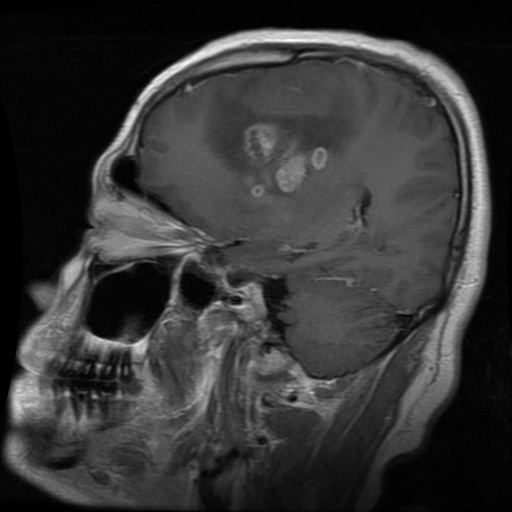glioma: (207, 94, 341, 196)
